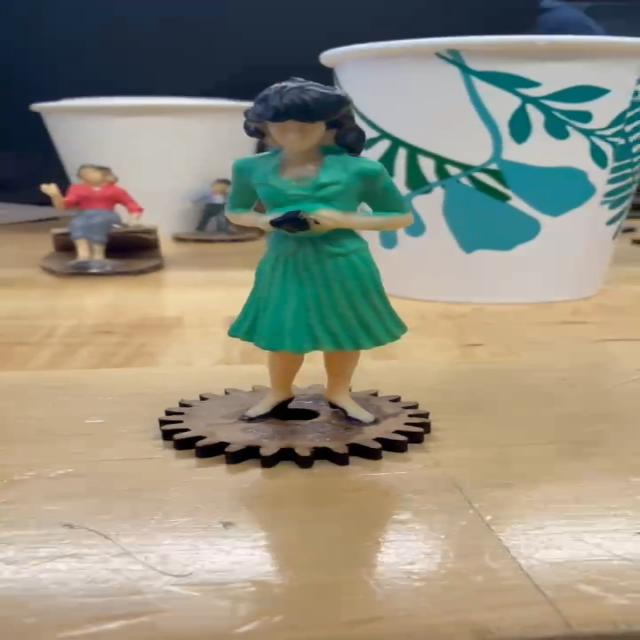Authorized: (191, 68, 415, 432)
